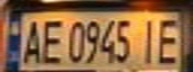0: (63, 16, 84, 64)
4: (100, 16, 121, 64)
5: (112, 16, 139, 64)
9: (81, 16, 103, 65)
A: (18, 16, 45, 66)
E: (151, 15, 187, 67), (36, 16, 66, 65)
I: (133, 15, 160, 65)
